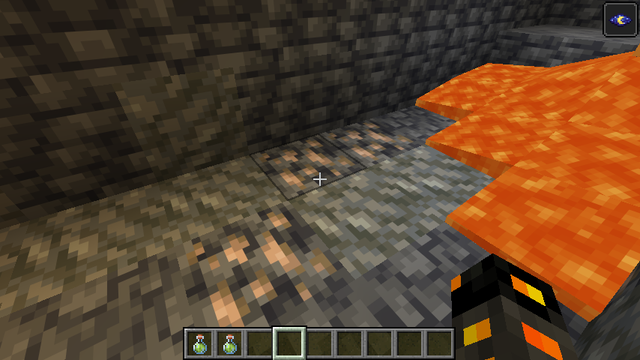iron: (187, 202, 340, 326), (250, 117, 425, 198)
